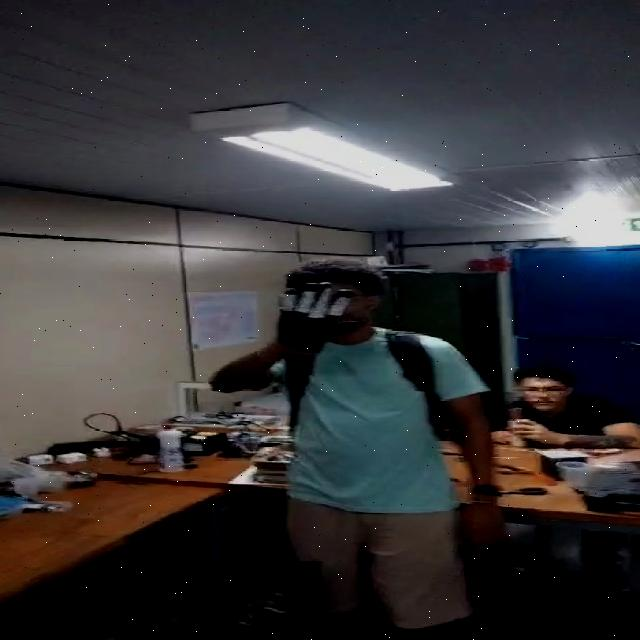Gloves: (272, 284, 361, 359)
